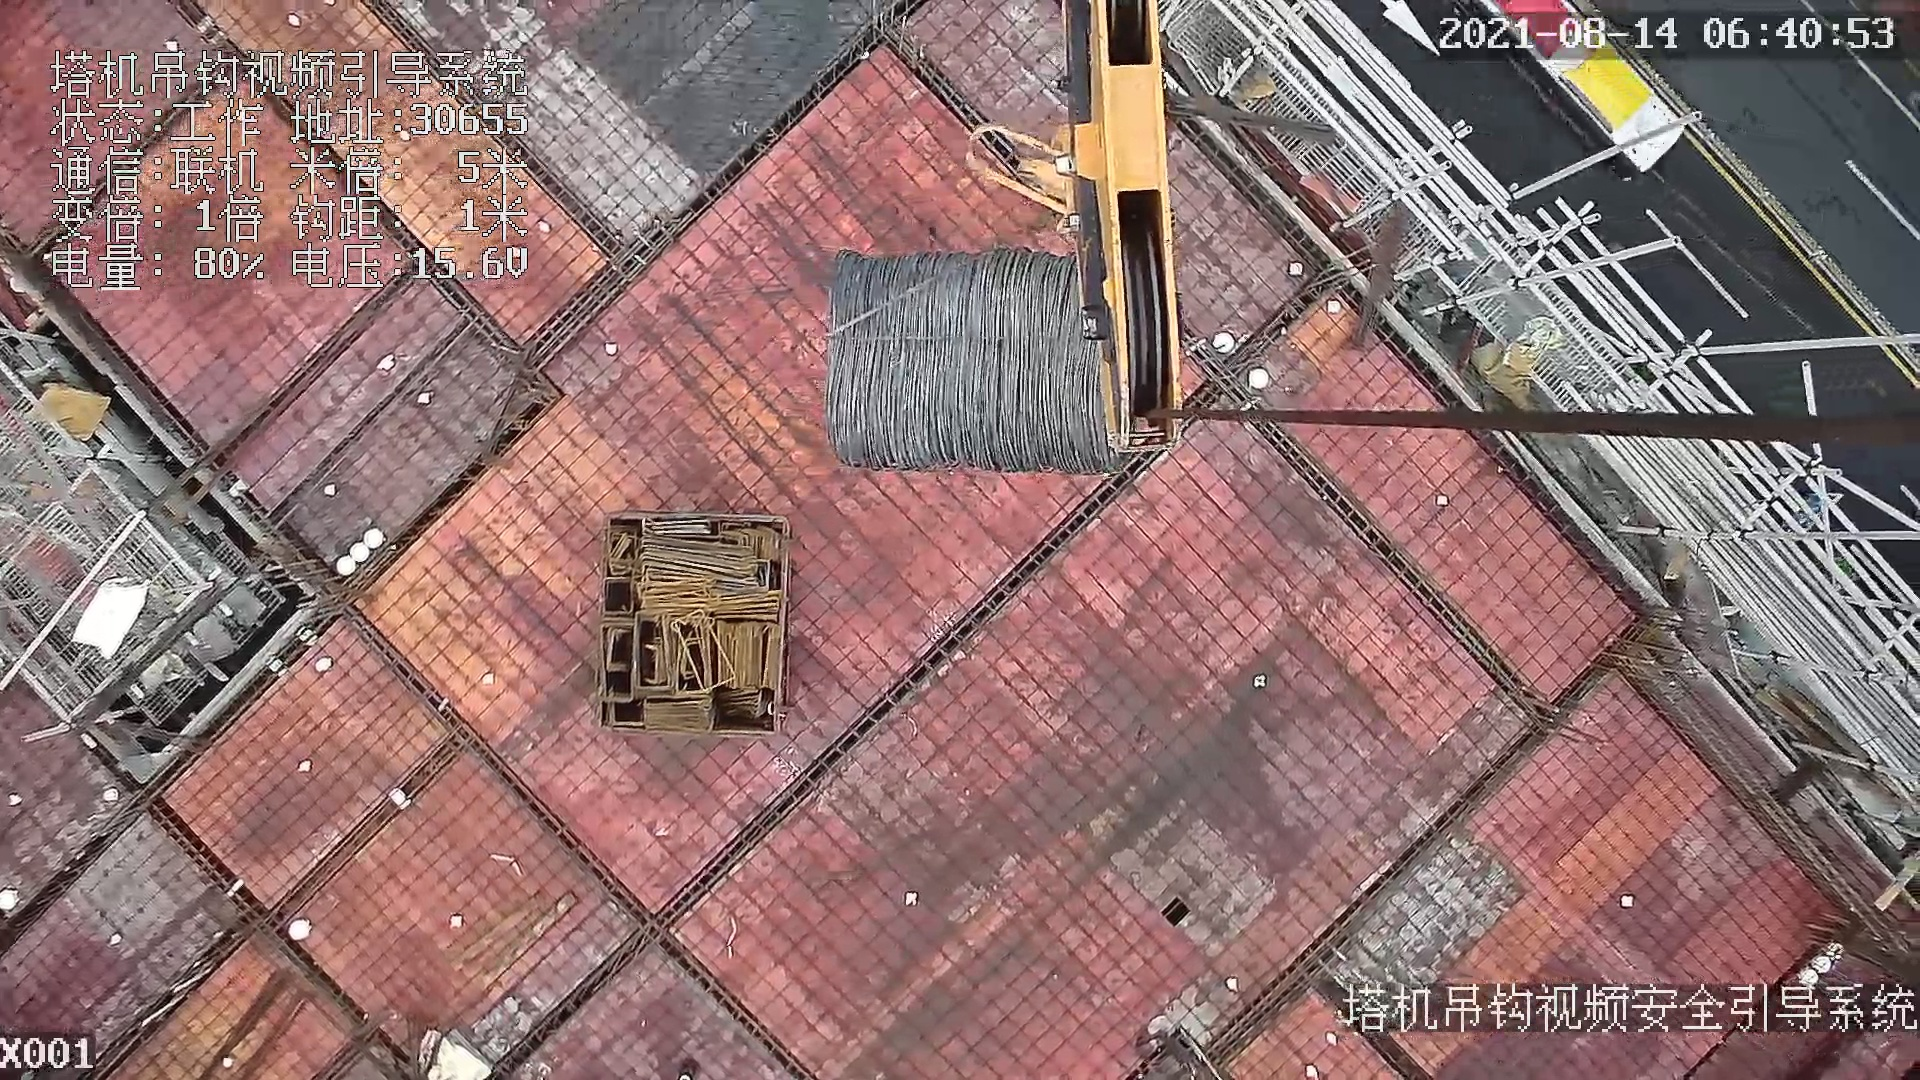hook: (963, 1, 1189, 460)
